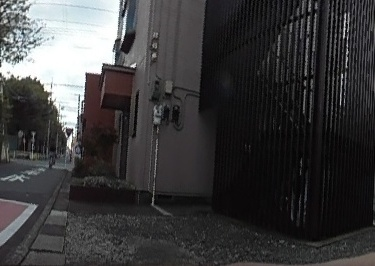person: (46, 139, 58, 165)
